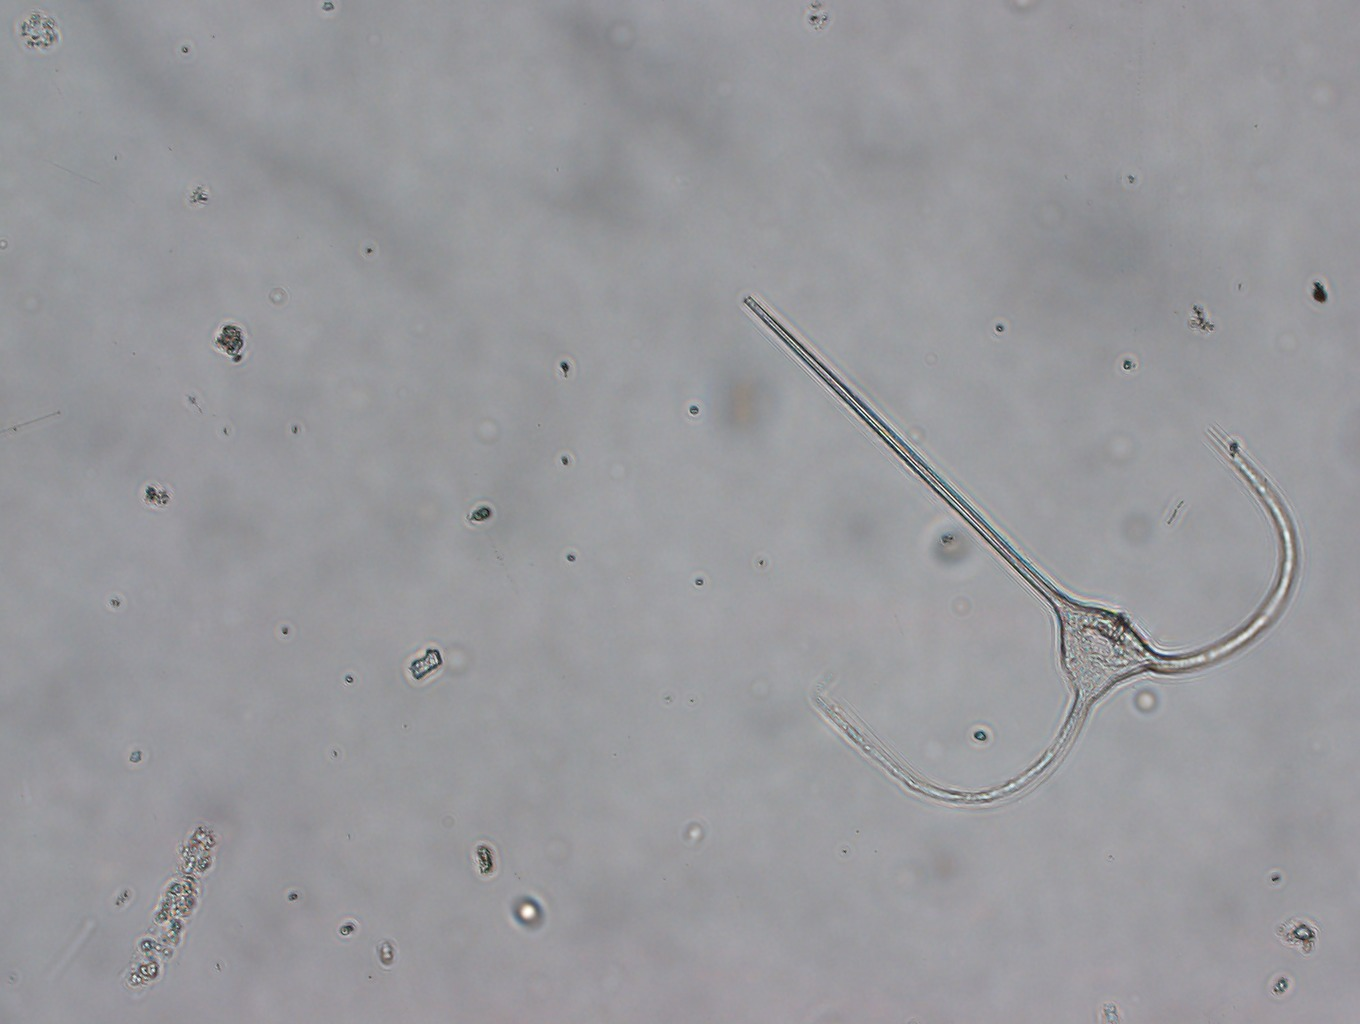ceratium trichoceros: (726, 279, 1305, 814)
